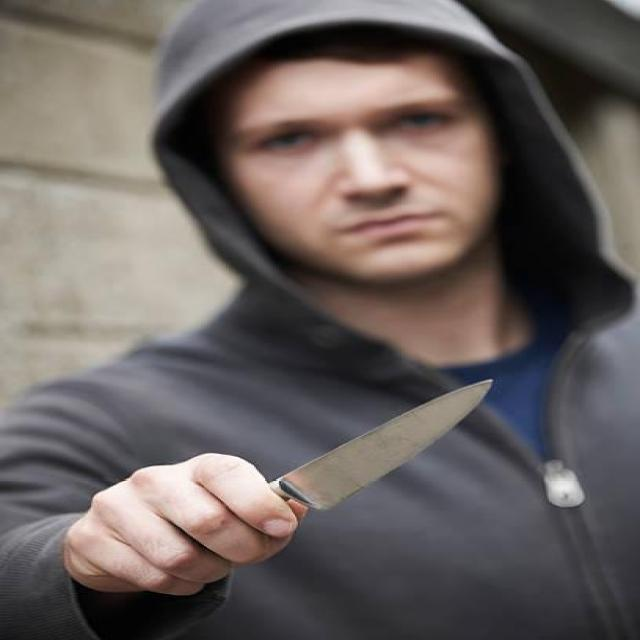faca: (16, 372, 538, 602)
